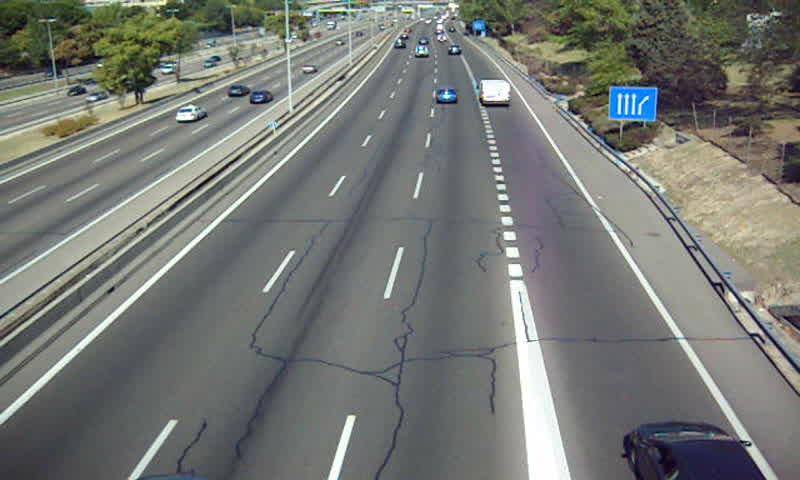car: (435, 88, 459, 104)
van: (479, 81, 511, 107)
